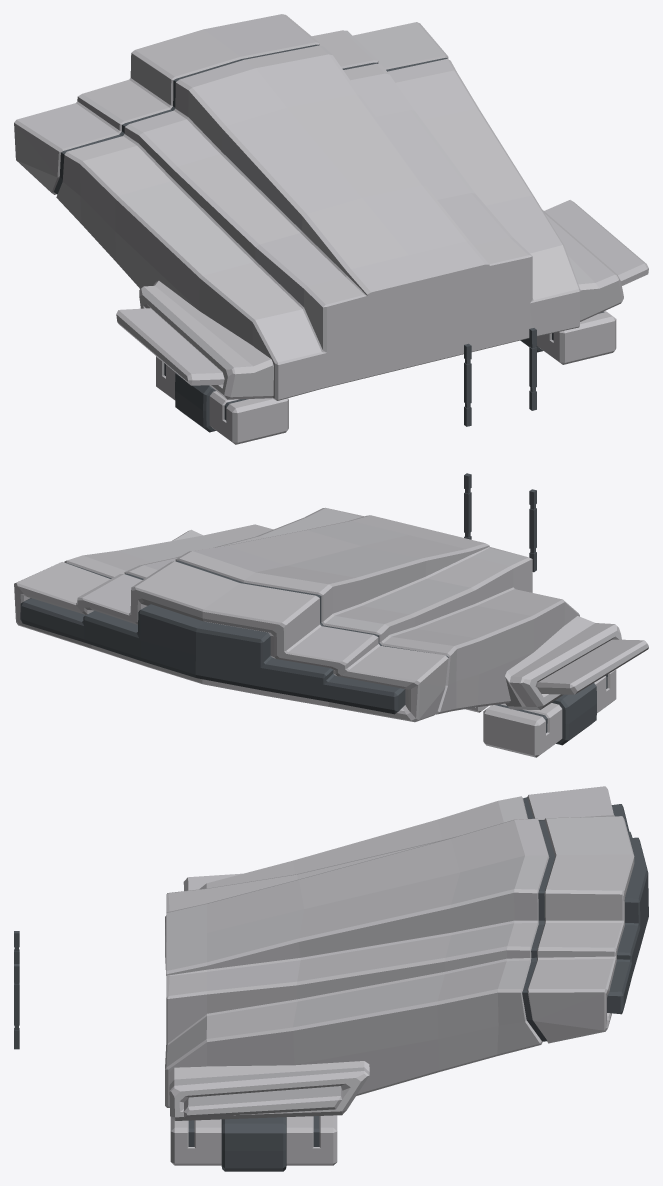
Rendered from Dropship_01_Rear_Body.fbx.
The picture shows the model from 3 angles, top to bottom: view 1: azimuth 30°, elevation 25°; view 2: azimuth 150°, elevation 25°; view 3: azimuth 270°, elevation 25°; orthographic projection. The views are drawn at different scales.
Visible parts, largest first — view 1: Dropship_01_Rear_Body; view 2: Dropship_01_Rear_Body; view 3: Dropship_01_Rear_Body.
Boxes of the visible parts, box(x1,y1,x2,y2) form: Dropship_01_Rear_Body: box(14, 14, 648, 444); Dropship_01_Rear_Body: box(14, 473, 648, 757); Dropship_01_Rear_Body: box(14, 786, 648, 1171).
Bounding box in the file's own units: 1331 × 589 × 1529.
1 material, 1 textured.
